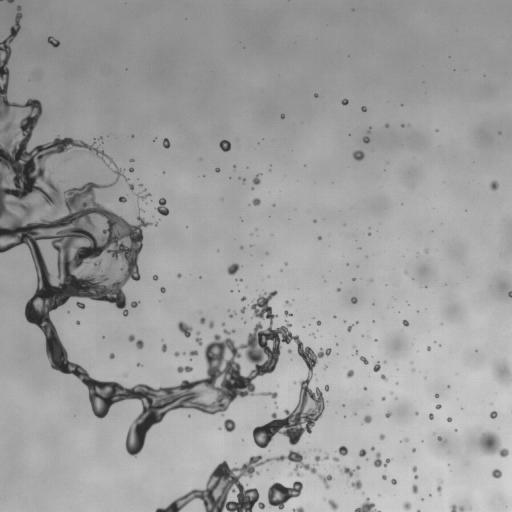droplet: (268, 481, 302, 509), (479, 432, 509, 457), (493, 360, 511, 383), (373, 452, 390, 467), (178, 321, 192, 337), (318, 474, 332, 489), (156, 198, 168, 215), (227, 263, 240, 275), (223, 419, 235, 432), (48, 36, 59, 47), (219, 140, 230, 151), (352, 150, 364, 160), (328, 499, 338, 511), (337, 446, 347, 455), (492, 469, 502, 478), (351, 480, 361, 489), (162, 138, 170, 148), (490, 180, 498, 190), (253, 174, 260, 184), (136, 339, 143, 349), (360, 356, 368, 364), (363, 415, 371, 423), (358, 449, 366, 457), (373, 362, 380, 371), (252, 198, 260, 205), (76, 302, 84, 309), (346, 369, 353, 377), (403, 502, 411, 509), (490, 411, 497, 418), (118, 196, 126, 202), (161, 344, 167, 352), (189, 350, 198, 355), (412, 484, 417, 493), (341, 99, 348, 105), (363, 136, 369, 143), (131, 301, 138, 307), (240, 306, 246, 313), (284, 311, 292, 316), (351, 297, 357, 303), (128, 335, 134, 341), (381, 374, 387, 380), (323, 453, 329, 459), (208, 321, 213, 328), (347, 324, 352, 331), (160, 287, 165, 293), (285, 300, 290, 306), (403, 320, 408, 326), (435, 404, 441, 409), (385, 412, 391, 417), (361, 106, 366, 111), (137, 207, 142, 212), (241, 296, 246, 301), (200, 318, 205, 323), (174, 351, 179, 356), (109, 353, 114, 358), (379, 434, 384, 439), (391, 479, 396, 484), (129, 184, 133, 190), (153, 274, 157, 280), (429, 413, 433, 419), (333, 457, 339, 461), (412, 466, 416, 472), (129, 167, 133, 172), (508, 291, 511, 297), (17, 6, 21, 10), (314, 93, 318, 97), (215, 168, 219, 172), (177, 273, 181, 277), (316, 321, 320, 325), (447, 417, 451, 421), (437, 436, 441, 440), (382, 475, 386, 479), (325, 385, 328, 390), (281, 114, 284, 118), (427, 346, 430, 350), (288, 349, 291, 353), (354, 351, 358, 354), (137, 363, 141, 366), (414, 475, 417, 479), (385, 124, 388, 127), (435, 394, 438, 397), (382, 397, 385, 400), (405, 438, 408, 441), (371, 447, 374, 450), (130, 159, 133, 161), (154, 223, 157, 225), (318, 236, 320, 239), (76, 321, 79, 323), (412, 449, 415, 451), (65, 158, 67, 160), (242, 179, 244, 181), (241, 246, 243, 248), (425, 250, 427, 252), (353, 278, 355, 280), (337, 288, 339, 290), (354, 322, 356, 324), (324, 366, 326, 368), (364, 387, 366, 389), (416, 412, 418, 414), (0, 0, 2, 1)
ligament: (0, 12, 331, 456), (155, 450, 321, 511), (354, 498, 380, 511), (340, 466, 360, 476), (195, 331, 202, 345), (451, 504, 464, 511), (177, 366, 192, 372), (136, 193, 150, 199), (293, 507, 304, 511), (230, 311, 236, 317), (437, 484, 441, 493), (7, 0, 13, 2), (416, 510, 420, 511)
